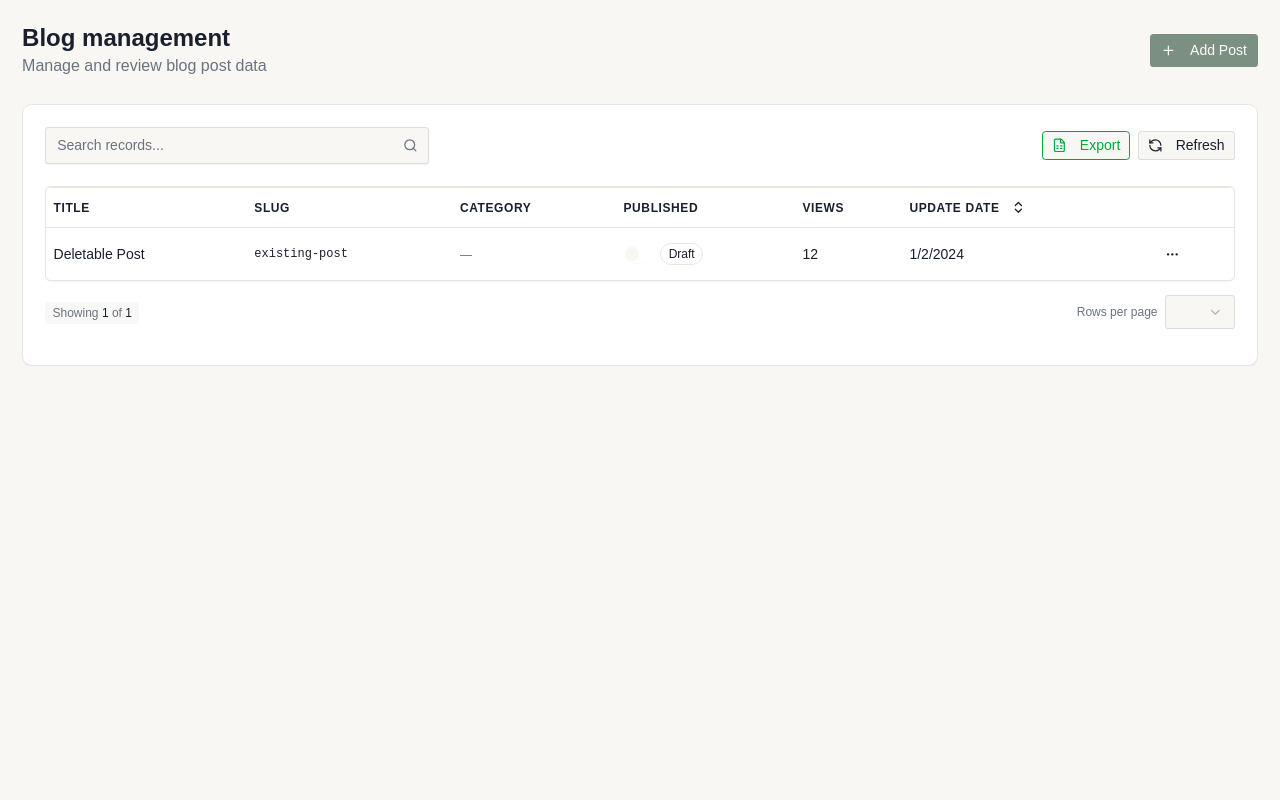
Scenario: AdminBlogManager - delete flow (Req 10.4) › submits a delete request, refreshes the list, and toasts on success
The image size is (1280, 800).
Expected: the text "Deletable Post" is shown, [54,246,145,262]
Press the mouse on the button named "open menu": (1172, 254) [1157,239,1187,269]
Click the button named "open menu": (1172, 254) [1157,239,1187,269]
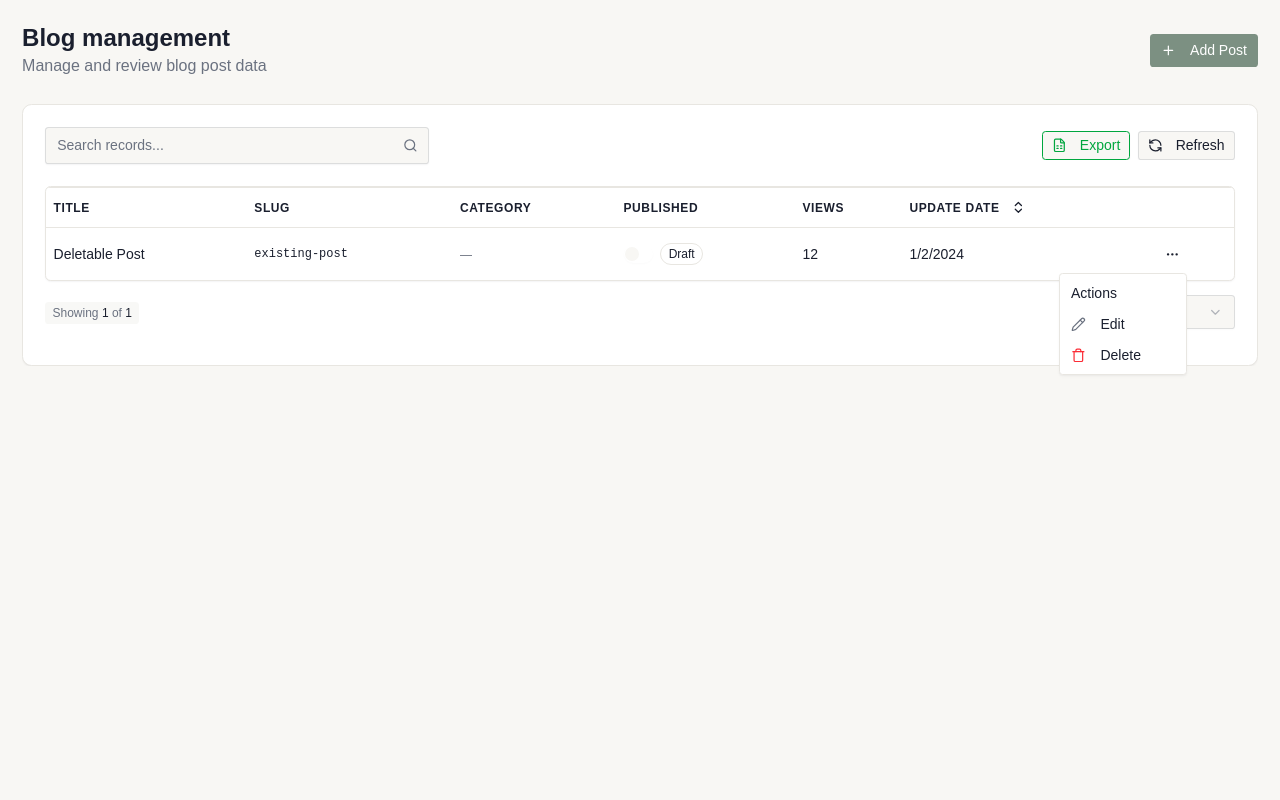
Click the menu item "Delete": (1106, 355) [1071,347,1141,363]
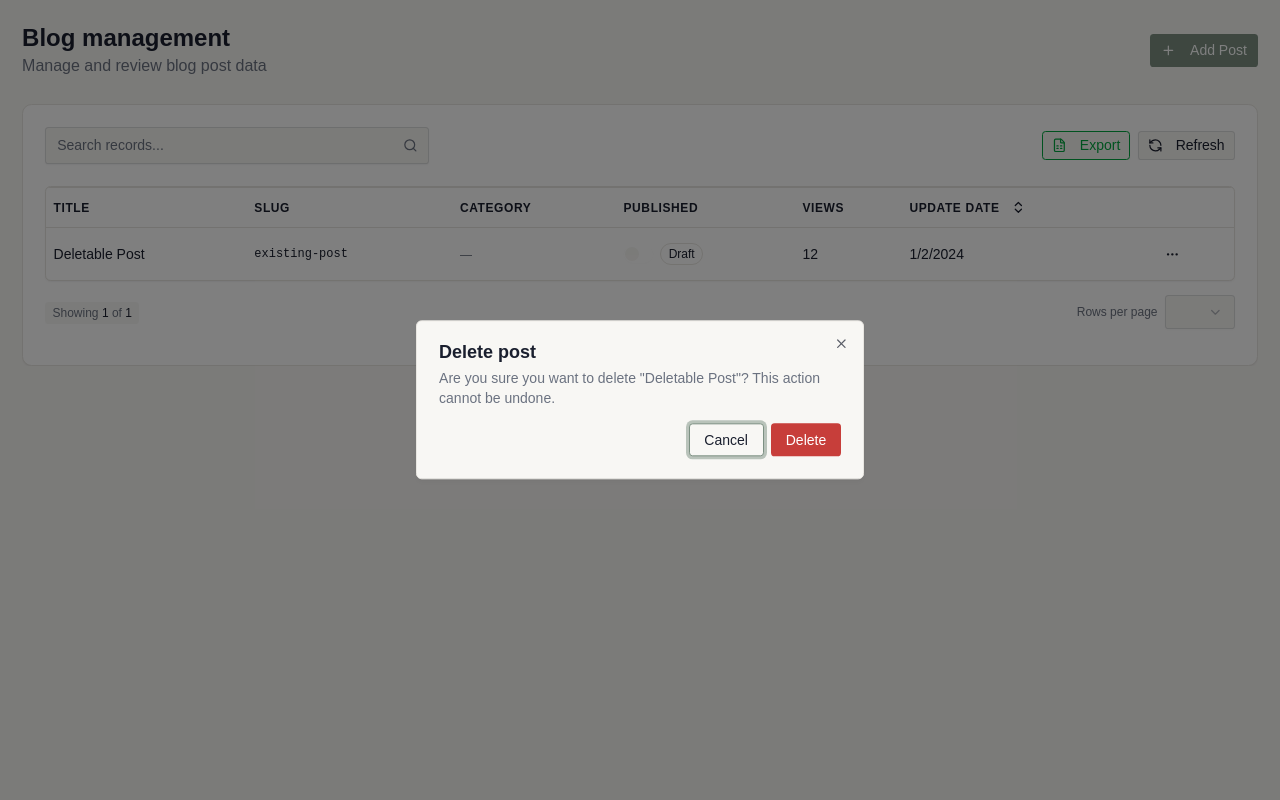
Expected: the heading "Delete post" is shown, [439,342,536,362]
Click the button "Delete": (806, 440) [771,424,841,457]
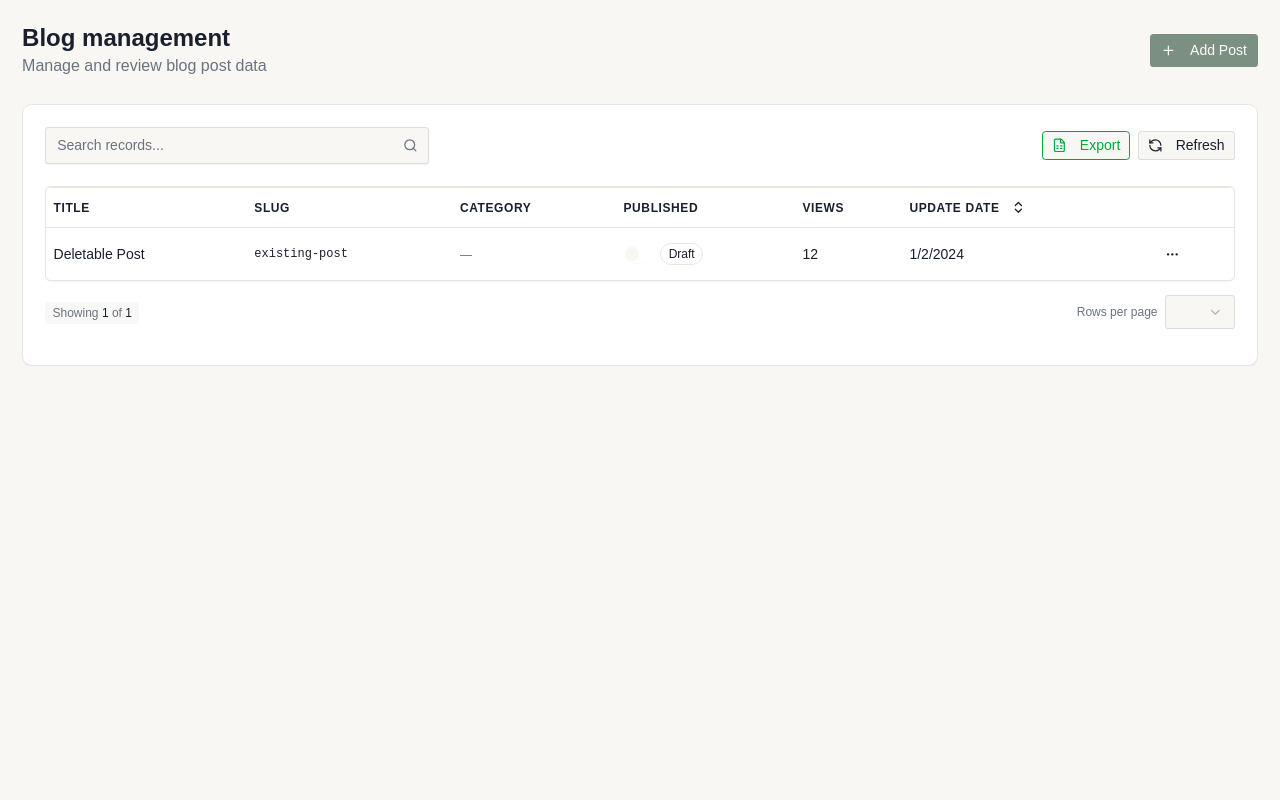
Expected: the dialog is gone
